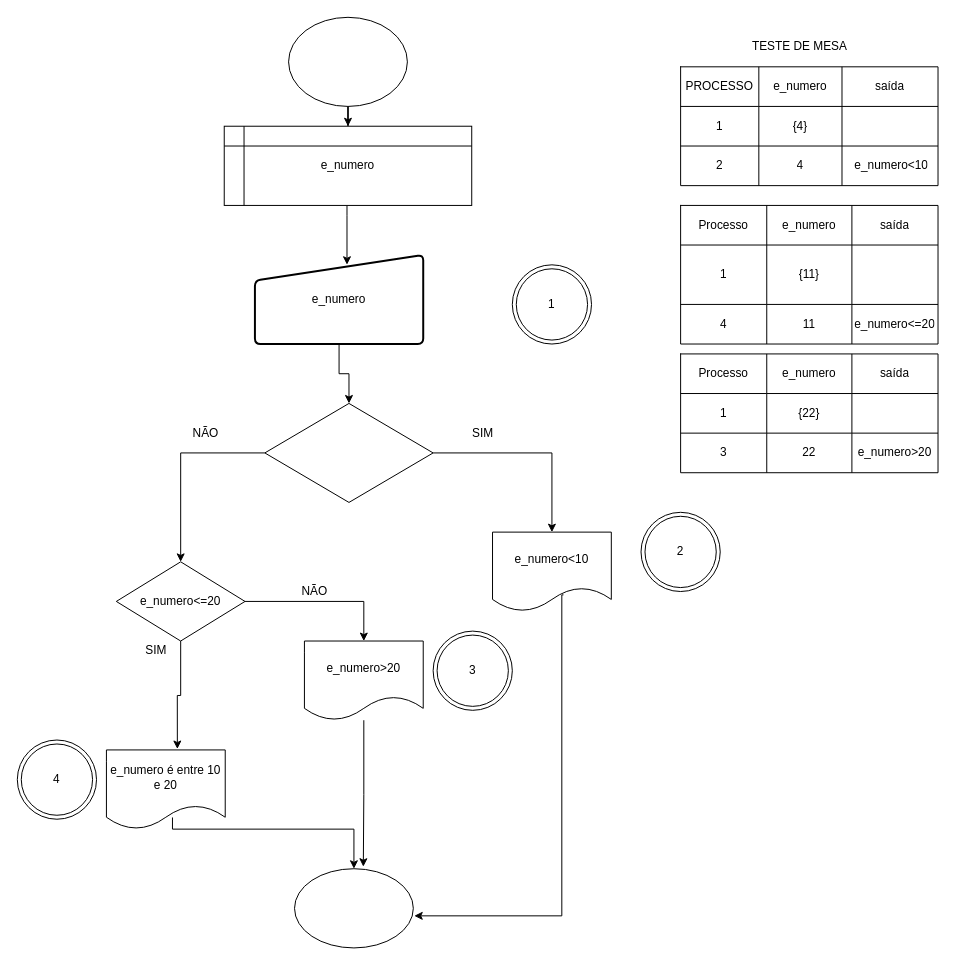
Some shapes in this 955 by 965 pixel diagram are drawn without their labels. Each missing label, with the centre of its shape:
"e_numero <10" goes at point 348,452.
"FIM" goes at point 353,908.
"INÍCIO" goes at point 347,61.
